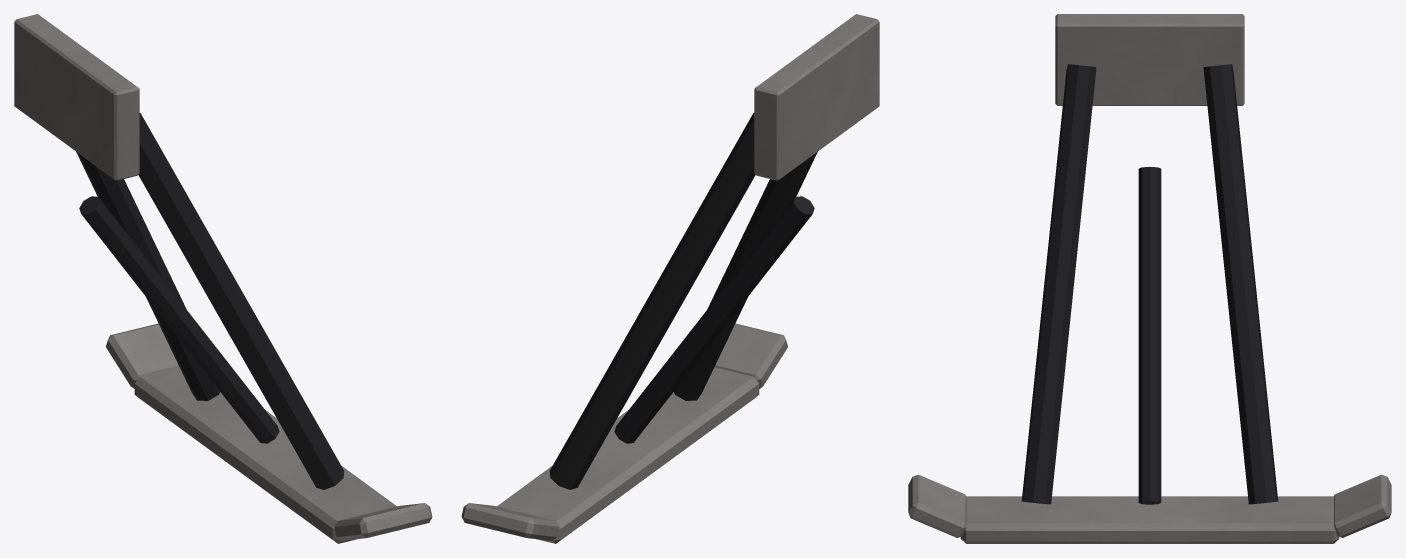
Rendered from ax_gear_06_skid_strut_m.glb.
3 renders of one model, left to right at view 1: azimuth 30°, elevation 25°; view 2: azimuth 150°, elevation 25°; view 3: azimuth 270°, elevation 25°, orthographic. The views are drawn at different scales.
Visible parts, largest first — view 1: skid_struts, skid, mount_block; view 2: skid_struts, skid, mount_block; view 3: skid_struts, skid, mount_block.
Boxes of the visible parts, x1=… form: skid_struts: x1=76, y1=113, x2=344, y2=489; skid: x1=106, y1=323, x2=432, y2=543; mount_block: x1=14, y1=14, x2=139, y2=180; skid_struts: x1=549, y1=113, x2=817, y2=489; skid: x1=461, y1=323, x2=787, y2=543; mount_block: x1=754, y1=14, x2=879, y2=180; skid_struts: x1=1021, y1=64, x2=1278, y2=504; skid: x1=908, y1=474, x2=1391, y2=543; mount_block: x1=1055, y1=14, x2=1244, y2=105.
Size of the model in its own units: 1.13 by 2.07 by 2.13.
Materials: 2 (1 with a texture image).
